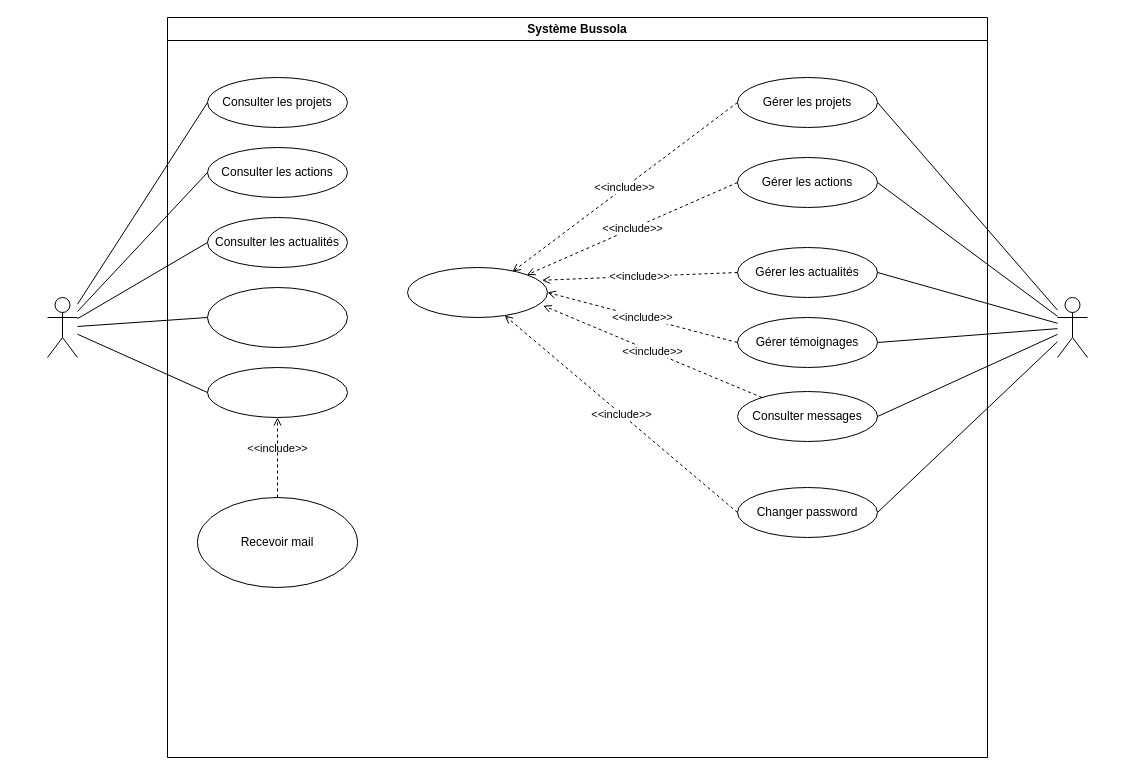
The diagram is 1128 pixels wide and 775 high, and some of its shapes have lost their labels. The centre of each missing label's shape, as x and y in pixels:
Administrateur: (x=1072, y=327)
Envoyer un message: (x=277, y=317)
S'abonner Newsletter: (x=277, y=392)
S'authentifier: (x=477, y=292)
Visiteur / Abonné: (x=62, y=327)
